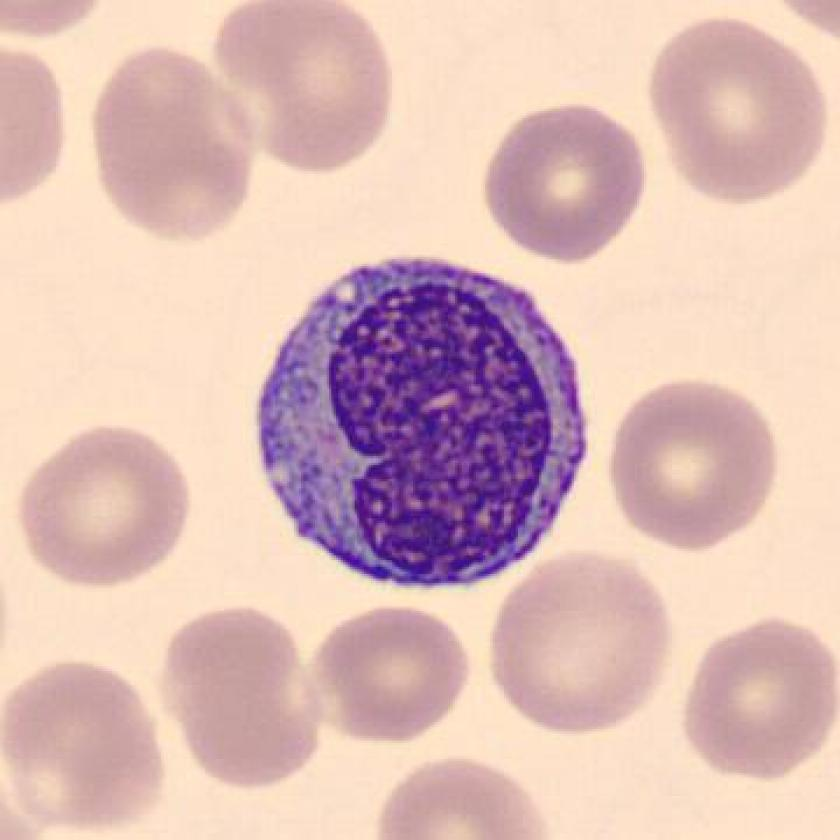monocyte: (237, 240, 608, 610)
